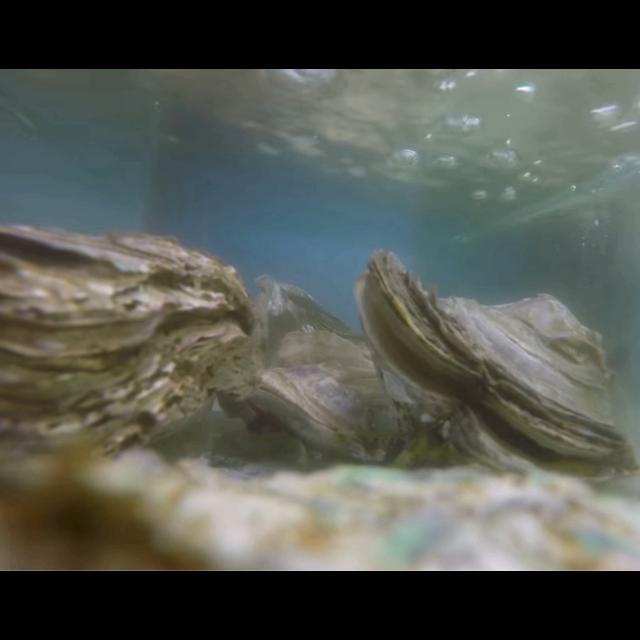Oyster-Closed: (0, 224, 256, 486), (258, 330, 412, 468)
Oyster-Indeterminate: (0, 450, 640, 572), (254, 274, 370, 364)
Oyster-Open: (356, 250, 640, 494)
